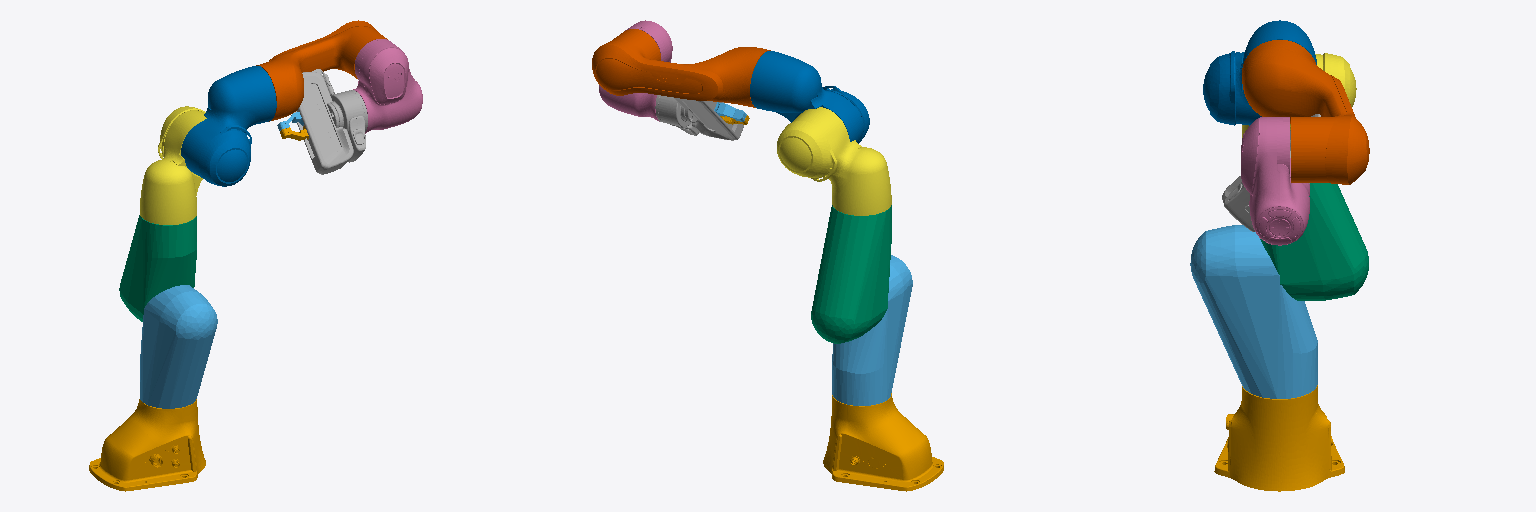
URDF robot description (panda_arm_hand):
<?xml version='1.0' encoding='utf-8'?>
<robot name="panda_arm_hand">

    <link name="link0">
      <inertial>
        <origin xyz="0 0 0.05" rpy="0 0 0" />
        <mass value="4" />
        <inertia ixx="0.4" iyy="0.4" izz="0.4" ixy="0" ixz="0" iyz="0" />
      </inertial>
      <visual>
        <origin xyz="0.0 0.0 0.0" rpy="0.0 0.0 0.0"/>
        <geometry>
          <mesh filename="meshes/visual/link0.stl"/>
        </geometry>
      </visual>
<!--       <collision>
        <geometry>
          <mesh filename="meshes/collision/link0.stl"/>
        </geometry>
      </collision> -->
    </link>
    <link name="link1">
      <inertial>
        <origin xyz="0 0 -0.07" rpy="0 -0 0" />
        <mass value="3" />
        <inertia ixx="0.3" iyy="0.3" izz="0.3" ixy="0" ixz="0" iyz="0" />
      </inertial>
      <visual>
        <origin xyz="0.0 0.0 0.0" rpy="0.0 0.0 0.0"/>
        <geometry>
          <mesh filename="meshes/visual/link1.stl"/>
        </geometry>
      </visual>
      <!-- <collision>
        <geometry>
          <mesh filename="meshes/collision/link1.stl"/>
        </geometry>
      </collision> -->
    </link>
    <link name="link2">
      <inertial>
        <origin xyz="0 -0.1 0" rpy="0 -0 0" />
        <mass value="3" />
        <inertia ixx="0.3" iyy="0.3" izz="0.3" ixy="0" ixz="0" iyz="0" />
      </inertial>
      <visual>
        <origin xyz="0.0 0.0 0.0" rpy="0.0 0.0 0.0"/>
        <geometry>
          <mesh filename="meshes/visual/link2.stl"/>
        </geometry>
      </visual>
      <!-- <collision>
        <geometry>
          <mesh filename="meshes/collision/link2.stl"/>
        </geometry>
      </collision> -->
    </link>
    <link name="link3">
      <inertial>
        <origin xyz="0.04 0 -0.05" rpy="0 -0 0" />
        <mass value="2" />
        <inertia ixx="0.2" iyy="0.2" izz="0.2" ixy="0" ixz="0" iyz="0" />
      </inertial>
      <visual>
        <origin xyz="0.0 0.0 0.0" rpy="0.0 0.0 0.0"/>
        <geometry>
          <mesh filename="meshes/visual/link3.stl"/>
        </geometry>
      </visual>
      <!-- <collision>
        <geometry>
          <mesh filename="meshes/collision/link3.stl"/>
        </geometry>
      </collision> -->
    </link>
    <link name="link4">
      <inertial>
        <origin xyz="-0.04 0.05 0" rpy="0 -0 0" />
        <mass value="2" />
        <inertia ixx="0.2" iyy="0.2" izz="0.2" ixy="0" ixz="0" iyz="0" />
      </inertial>
      <visual>
        <origin xyz="0.0 0.0 0.0" rpy="0.0 0.0 0.0"/>
        <geometry>
          <mesh filename="meshes/visual/link4.stl"/>
        </geometry>
      </visual>
<!--       <collision>
        <geometry>
          <mesh filename="meshes/collision/link4.stl"/>
        </geometry>
      </collision> -->
    </link>
    <link name="link5">
      <inertial>
        <origin xyz="0 0 -0.15" rpy="0 -0 0" />
        <mass value="2" />
        <inertia ixx="0.2" iyy="0.2" izz="0.2" ixy="0" ixz="0" iyz="0" />
      </inertial>
      <visual>
        <origin xyz="0.0 0.0 0.0" rpy="0.0 0.0 0.0"/>
        <geometry>
          <mesh filename="meshes/visual/link5.stl"/>
        </geometry>
      </visual>
<!--       <collision>
        <geometry>
          <mesh filename="meshes/collision/link5.stl"/>
        </geometry>
      </collision> -->
    </link>
    <link name="link6">
      <inertial>
        <origin xyz="0.06 0 0" rpy="0 -0 0" />
        <mass value="1.5" />
        <inertia ixx="0.1" iyy="0.1" izz="0.1" ixy="0" ixz="0" iyz="0" />
      </inertial>
      <visual>
        <origin xyz="0.0 0.0 0.0" rpy="0.0 0.0 0.0"/>
        <geometry>
          <mesh filename="meshes/visual/link6.stl"/>
        </geometry>
      </visual>
      <!-- <collision>
        <geometry>
          <mesh filename="meshes/collision/link6.stl"/>
        </geometry>
      </collision> -->
    </link>
    <link name="link7">
      <inertial>
        <origin xyz="0 0 0.17" rpy="0 -0 0" />
        <mass value="1.8" />
        <inertia ixx="0.09" iyy="0.05" izz="0.07" ixy="0" ixz="0" iyz="0" />
      </inertial>
      <visual>
        <origin xyz="0.0 0.0 0.0" rpy="0.0 0.0 0.0"/>
        <geometry>
          <mesh filename="meshes/visual/link7.stl"/>
        </geometry>
      </visual>
      <!-- <collision>
        <geometry>
          <mesh filename="meshes/collision/link7.stl"/>
        </geometry>
      </collision> -->
      <visual>
        <origin xyz="0 0 0.107" rpy="0 0 -0.78539816339" />
        <geometry>
          <mesh filename="meshes/visual/hand.stl"/>
        </geometry>
      </visual>
<!--       <collision>
        <origin xyz="0 0 0.107" rpy="0 0 -0.78539816339" />
        <geometry>
          <mesh filename="meshes/collision/hand.stl"/>
        </geometry>
      </collision> -->
    </link>
    <link name="leftfinger">
      <inertial>
        <origin xyz="0 0 0.05" rpy="0 -0 0" />
        <mass value="0.1" />
        <inertia ixx="0.01" iyy="0.01" izz="0.005" ixy="0" ixz="0" iyz="0" />
      </inertial>
      <visual>
        <origin xyz="0.0 0.0 0.0" rpy="0.0 0.0 0.0"/>
        <geometry>
          <mesh filename="meshes/visual/finger.stl"/>
        </geometry>
      </visual>
      <collision>
        <origin xyz="0 0.005 0.043" rpy="0 0 0" />
          <geometry>
            <box size="0.02 0.01 0.02"/>
          </geometry>
      </collision>
<!--       <collision>
        <geometry>
          <mesh filename="meshes/collision/finger.stl"/>
        </geometry>
      </collision> -->
    </link>
    <link name="rightfinger">
      <inertial>
        <origin xyz="0 0 0.05" rpy="0 -0 0" />
        <mass value="0.1" />
        <inertia ixx="0.01" iyy="0.01" izz="0.005" ixy="0" ixz="0" iyz="0" />
      </inertial>
      <visual>
        <origin xyz="0 0 0" rpy="0 0 3.14159265359" />
        <geometry>
          <mesh filename="meshes/visual/finger.stl"/>
        </geometry>
      </visual>
      <collision>
        <origin xyz="0 -0.005 0.043" rpy="0 0 0" />
          <geometry>
            <box size="0.02 0.01 0.02"/>
          </geometry>
      </collision>
<!--       <collision>
        <origin xyz="0 0 0" rpy="0 0 3.14159265359" />
        <geometry>
          <mesh filename="meshes/collision/finger.stl"/>
        </geometry>
      </collision> -->
    </link>
    <joint name="joint1" type="revolute">
      <origin rpy="0 0 0" xyz="0 0 0.333"/>
      <parent link="link0"/>
      <child link="link1"/>
      <axis xyz="0 0 1"/>
      <limit effort="87" lower="-2.8973" upper="2.8973" velocity="2.1750"/>
    </joint>
    <joint name="joint2" type="revolute">
      <origin rpy="-1.57079632679 0 0" xyz="0 0 0"/>
      <parent link="link1"/>
      <child link="link2"/>
      <axis xyz="0 0 1"/>
      <calibration falling="15.0" />
      <limit effort="87" lower="-1.7628" upper="1.7628" velocity="2.1750"/>
    </joint>
    <joint name="joint3" type="revolute">
      <origin rpy="1.57079632679 0 0" xyz="0 -0.316 0"/>
      <parent link="link2"/>
      <child link="link3"/>
      <axis xyz="0 0 1"/>
      <limit effort="87" lower="-2.8973" upper="2.8973" velocity="2.1750"/>
    </joint>
    <joint name="joint4" type="revolute">
      <origin rpy="1.57079632679 0 0" xyz="0.0825 0 0"/>
      <parent link="link3"/>
      <child link="link4"/>
      <axis xyz="0 0 1"/>
      <calibration falling="-95.0" />
      <limit effort="87" lower="-3.0718" upper="-0.0698" velocity="2.1750"/>
    </joint>
    <joint name="joint5" type="revolute">
      <origin rpy="-1.57079632679 0 0" xyz="-0.0825 0.384 0"/>
      <parent link="link4"/>
      <child link="link5"/>
      <axis xyz="0 0 1"/>
      <limit effort="12" lower="-2.8973" upper="2.8973" velocity="2.6100"/>
    </joint>
    <joint name="joint6" type="revolute">
      <origin rpy="1.57079632679 0 0" xyz="0 0 0"/>
      <parent link="link5"/>
      <child link="link6"/>
      <axis xyz="0 0 1"/>
      <calibration falling="125.0" />
      <limit effort="12" lower="-0.0175" upper="3.7525" velocity="2.6100"/>
    </joint>
    <joint name="joint7" type="revolute">
      <origin rpy="1.57079632679 0 0" xyz="0.088 0 0"/>
      <parent link="link6"/>
      <child link="link7"/>
      <axis xyz="0 0 1"/>
      <limit effort="12" lower="-2.8973" upper="2.8973" velocity="2.6100"/>
    </joint>
    <joint name="finger_joint1" type="prismatic">
      <parent link="link7"/>
      <child link="leftfinger"/>
      <origin xyz="0 0 0.1654" rpy="0 0 -0.78539816339"/>
      <axis xyz="0 1 0"/>
      <calibration falling="0.04" />
      <limit effort="20" lower="0.0" upper="0.04" velocity="0.2"/>
    </joint>
    <joint name="finger_joint2" type="prismatic">
      <parent link="link7"/>
      <child link="rightfinger"/>
      <origin xyz="0 0 0.1654" rpy="0 0 -0.78539816339"/>
      <axis xyz="0 1 0"/>
      <calibration falling="-0.04" />
      <limit effort="20" lower="-0.04" upper="0" velocity="0.2"/>
    </joint>
</robot>

--- What the picture shows (computed from the rendered views, not written in the file) ---
3 views of the same robot in one strip: view 1: azimuth 30°, elevation 25°; view 2: azimuth 150°, elevation 25°; view 3: azimuth 270°, elevation 25° (orthographic).
Model panda_arm_hand with 10 links and 9 joints (7 revolute, 2 prismatic), rooted at link0, posed joints at zero except 1 at the middle of their limits (joint4 = -1.57).
Visible links, largest first — view 1: link1, link0, link4, link2, link7, link3, link5, link6; view 2: link2, link0, link5, link3, link1, link4, link7, link6; view 3: link1, link5, link0, link2, link6, link4, link7, link3.
Link boxes in pixels (left/top/right/bottom): link1: left=140, top=285, right=217, bottom=408; link0: left=89, top=399, right=205, bottom=491; link4: left=181, top=66, right=276, bottom=186; link2: left=119, top=215, right=196, bottom=321; link7: left=294, top=69, right=367, bottom=174; link3: left=140, top=106, right=206, bottom=224; link5: left=256, top=20, right=387, bottom=121; link6: left=353, top=39, right=422, bottom=133; link2: left=811, top=205, right=891, bottom=343; link0: left=823, top=393, right=943, bottom=491; link5: left=592, top=29, right=770, bottom=107; link3: left=777, top=107, right=891, bottom=215; link1: left=832, top=255, right=912, bottom=405; link4: left=750, top=51, right=869, bottom=143; link7: left=655, top=95, right=743, bottom=140; link6: left=599, top=20, right=672, bottom=121; link1: left=1190, top=225, right=1317, bottom=398; link5: left=1242, top=40, right=1369, bottom=184; link0: left=1214, top=385, right=1344, bottom=491; link2: left=1260, top=183, right=1368, bottom=300; link6: left=1241, top=117, right=1309, bottom=245; link4: left=1203, top=20, right=1316, bottom=125; link7: left=1222, top=114, right=1320, bottom=231; link3: left=1242, top=53, right=1356, bottom=137.
Bounding box of the posed robot: 0.7022 × 0.2593 × 0.7865 m (x, y, z).
Meshes: 10 distinct files referenced, 11 mesh visuals loaded (10 binary STL).
